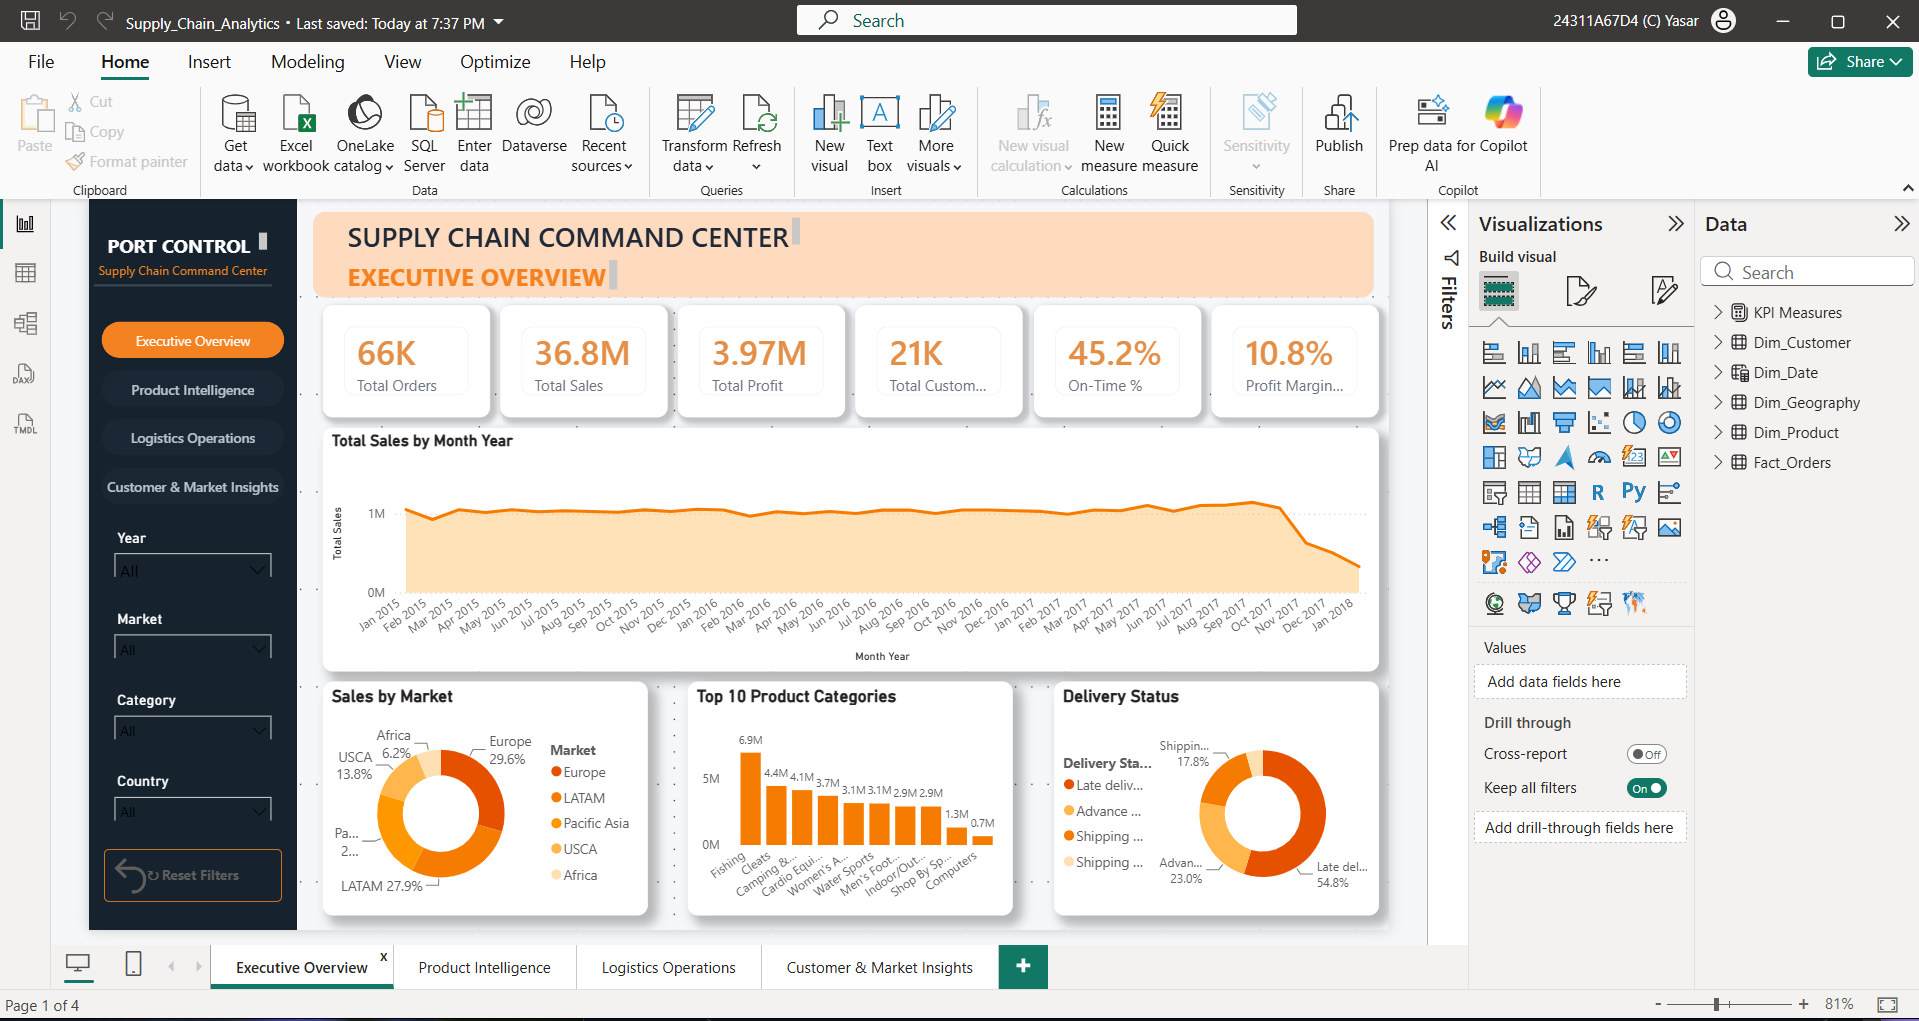

This screenshot's page, from the dashboard's own definition file:
{"tool":"powerbi","page":{"name":"Executive Overview","canvas":[1280,720],"ordinal":0},"visuals":[{"type":"shape","box":[0,0,205,720],"z":0},{"type":"textbox","box":[5,28,175,30],"z":1000},{"type":"textbox","box":[0,55,185,28],"z":2000},{"type":"shape","box":[5,78,175,15],"z":3000},{"type":"pageNavigator","box":[12,120,180,180],"z":4000},{"type":"shape","box":[220,12,1045,85],"z":5000},{"type":"textbox","box":[245,13,460,40],"z":6000},{"type":"textbox","box":[245,55,280,40],"z":7000},{"type":"cardVisual","fields":{"Data":["KPI Measures.Total Orders"]},"box":[230,105,165,110],"z":8000},{"type":"cardVisual","fields":{"Data":["KPI Measures.Total Sales"]},"box":[405,105,165,110],"z":9000},{"type":"cardVisual","fields":{"Data":["KPI Measures.Total Profit"]},"box":[580,105,165,110],"z":10000},{"type":"cardVisual","fields":{"Data":["KPI Measures.Total Customers"]},"box":[755,105,165,110],"z":11000},{"type":"cardVisual","fields":{"Data":["KPI Measures.On-Time Delivery %"]},"box":[930,105,165,110],"z":12000},{"type":"cardVisual","fields":{"Data":["KPI Measures.Profit Margin %"]},"box":[1105,105,165,110],"z":13000},{"type":"areaChart","fields":{"Category":["Dim_Date.Month Year"],"Y":["KPI Measures.Total Sales"]},"box":[230,225,1040,240],"z":14000},{"type":"clusteredColumnChart","title":"Top 10 Product Categories","fields":{"Category":["Fact_Orders.Category"],"Y":["KPI Measures.Total Sales"]},"box":[590,475,320,230],"z":15000},{"type":"donutChart","title":"Sales by Market","fields":{"Category":["Fact_Orders.Market"],"Y":["KPI Measures.Total Sales"]},"box":[230,475,320,230],"z":16000},{"type":"donutChart","title":"Delivery Status","fields":{"Category":["Fact_Orders.Delivery Status"],"Y":["CountNonNull(Fact_Orders.Order Id)"]},"box":[950,475,320,230],"z":17000},{"type":"slicer","fields":{"Values":["Dim_Date.Year"]},"box":[15,320,175,52],"z":18000},{"type":"slicer","fields":{"Values":["Dim_Geography.Market"]},"box":[15,400,175,52],"z":19000},{"type":"slicer","fields":{"Values":["Dim_Product.Category"]},"box":[15,480,175,52],"z":20000},{"type":"slicer","fields":{"Values":["Dim_Geography.Country"]},"box":[15,560,175,52],"z":21000},{"type":"actionButton","box":[15,640,175,52],"z":22000}]}

Visuals, with their boxes on the page's 1280x720 design canvas (x1, y1, x2, y2). These are canvas units, not pixel positions in the 1919x1021 screenshot, which may show the page scaled, cropped or inside an application window:
shape: crop(0, 0, 205, 720)
textbox: crop(5, 28, 180, 58)
textbox: crop(0, 55, 185, 83)
shape: crop(5, 78, 180, 93)
pageNavigator: crop(12, 120, 192, 300)
shape: crop(220, 12, 1265, 97)
textbox: crop(245, 13, 705, 53)
textbox: crop(245, 55, 525, 95)
cardVisual - KPI Measures.Total Orders: crop(230, 105, 395, 215)
cardVisual - KPI Measures.Total Sales: crop(405, 105, 570, 215)
cardVisual - KPI Measures.Total Profit: crop(580, 105, 745, 215)
cardVisual - KPI Measures.Total Customers: crop(755, 105, 920, 215)
cardVisual - KPI Measures.On-Time Delivery %: crop(930, 105, 1095, 215)
cardVisual - KPI Measures.Profit Margin %: crop(1105, 105, 1270, 215)
areaChart - Dim_Date.Month Year x KPI Measures.Total Sales: crop(230, 225, 1270, 465)
"Top 10 Product Categories" clusteredColumnChart: crop(590, 475, 910, 705)
"Sales by Market" donutChart: crop(230, 475, 550, 705)
"Delivery Status" donutChart: crop(950, 475, 1270, 705)
slicer - Dim_Date.Year: crop(15, 320, 190, 372)
slicer - Dim_Geography.Market: crop(15, 400, 190, 452)
slicer - Dim_Product.Category: crop(15, 480, 190, 532)
slicer - Dim_Geography.Country: crop(15, 560, 190, 612)
actionButton: crop(15, 640, 190, 692)
